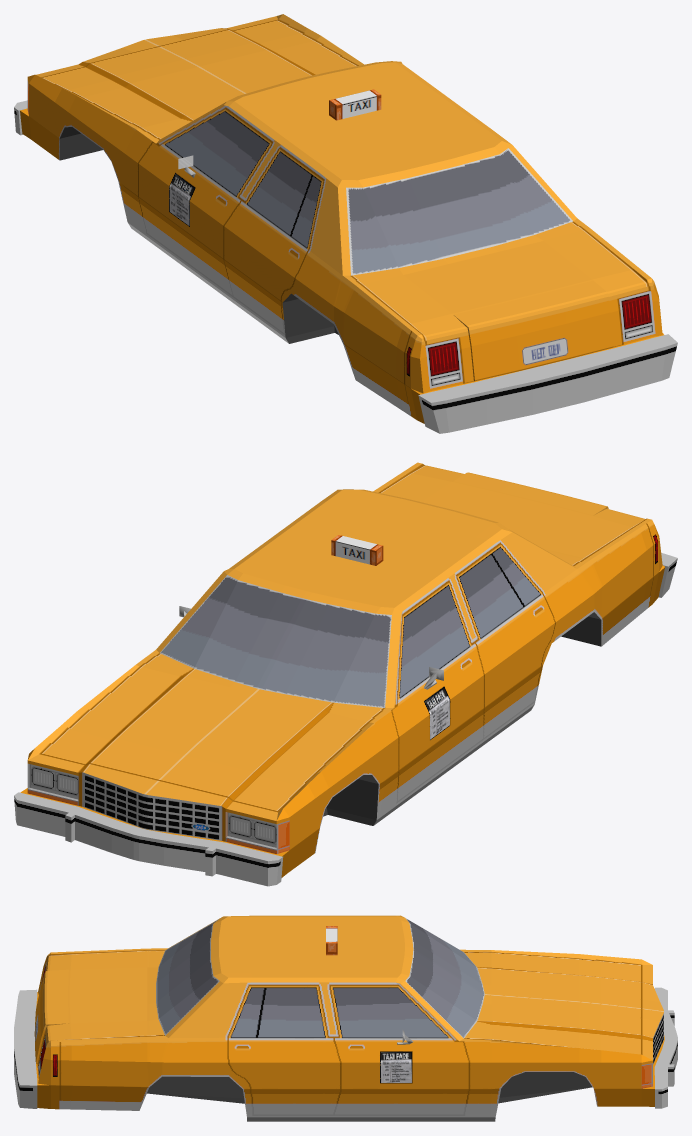
File: 80crownvictorialtdtaxi1.fbx
3 views of the same model, one above another, from view 1: azimuth 30°, elevation 25°; view 2: azimuth 150°, elevation 25°; view 3: azimuth 270°, elevation 25° (orthographic). The views are drawn at different scales.
Visible parts, largest first — view 1: 86crownvictoria; view 2: 86crownvictoria; view 3: 86crownvictoria.
Boxes of the visible parts, bbox=[...] form: 86crownvictoria: bbox=[14, 14, 677, 433]; 86crownvictoria: bbox=[14, 462, 677, 886]; 86crownvictoria: bbox=[14, 915, 677, 1121].
Size of the model in its own units: 1.98 by 1.27 by 5.47.
